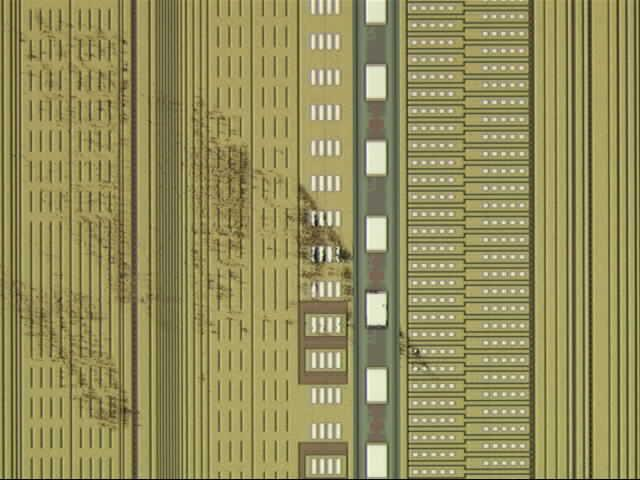SCRATCH: (2, 7, 443, 433)
